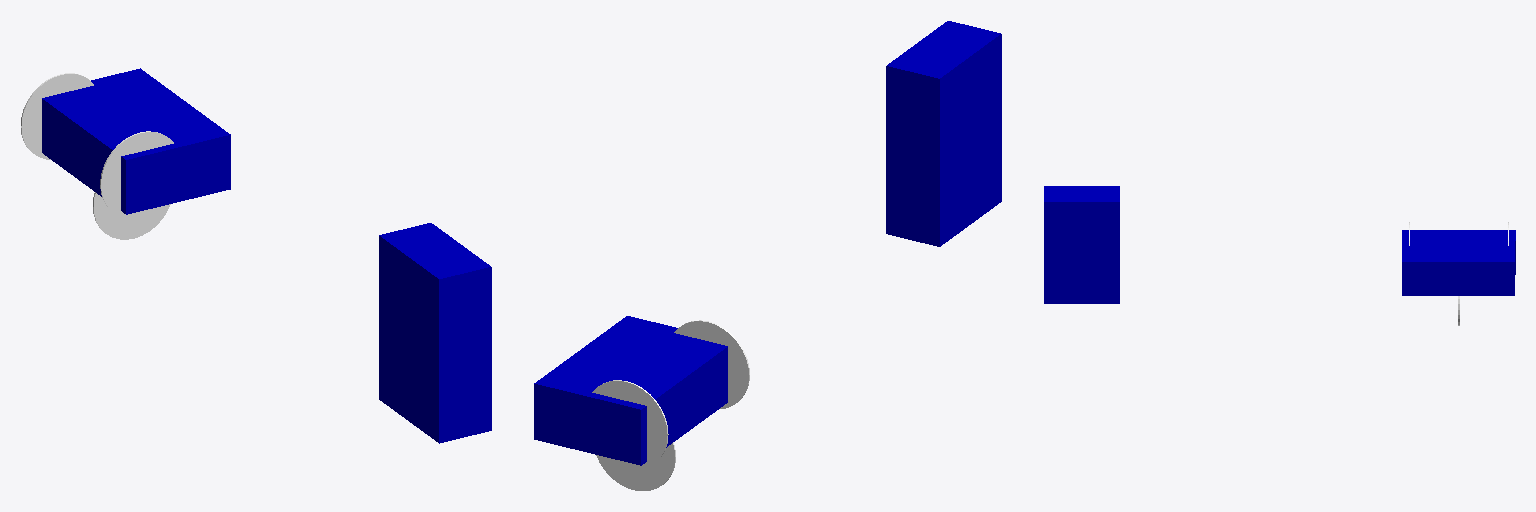
URDF robot description (glide):
<?xml version="1.0" ?>
<!-- =================================================================================== -->
<!-- |    This document was autogenerated by xacro from glide_description.urdf.xacro   | -->
<!-- |    EDITING THIS FILE BY HAND IS NOT RECOMMENDED                                 | -->
<!-- =================================================================================== -->
<robot name="glide">
  <material name="blue">
    <color rgba="0 0 0.8 1"/>
  </material>
  <material name="white">
    <color rgba="1 1 1 1"/>
  </material>
  <!-- 4" ~= 0.1 m -->
  <!-- 1 5" ~= 0.0381 m -->
  <!-- 1 1/4" ~= 0.03175 m -->
  <!-- <link name="steer_bar_link">
      <visual>
        <geometry>
          <cylinder length="0.4" radius="${bar_radius}"/>
        </geometry>
        <origin rpy="${degrees_45} -${degrees_45} -${degrees_55}" xyz="0 0 0"/>
        <material name="white"/>
      </visual>
      <collision> 
        <origin rpy="${degrees_45} 0 0" xyz="0 0 0"/>
        <geometry> 
          <cylinder length="0.4" radius="${bar_radius}"/>
        </geometry> 
      </collision>
  </link>
  <joint name="steer_bar_joint" type="revolute">
    <limit lower="-0.2" upper="0.2" effort="100" velocity="0.1"/>
      <origin rpy="0 0 0" xyz="-${1.8*body_width} 0 ${body_length/1.1}"/>
      <parent link="base_link"/>
      <child link="steer_bar_link"/>
      <axis xyz="0 1 0"/>
    </joint> -->
  <link name="base_footprint"/>
  <link name="base_link">
    <visual>
      <geometry>
        <box size="0.3 0.2 0.1"/>
      </geometry>
      <origin rpy="0 0 1.57" xyz="0 0 0.1"/>
      <material name="blue"/>
    </visual>
  </link>
  <gazebo reference="base_link">
    <material>Gazebo/Blue</material>
  </gazebo>
  <joint name="base_joint" type="fixed">
    <origin rpy="0 0 0" xyz="0 0 0"/>
    <!-- 0 3.14 1.57-->
    <child link="base_link"/>
    <parent link="base_footprint"/>
  </joint>
  <link name="front_right_wheel">
    <visual>
      <geometry>
        <cylinder length="0.003" radius="0.077"/>
      </geometry>
      <origin rpy="0 0 0" xyz="0 0 0"/>
      <material name="white"/>
    </visual>
    <collision>
      <origin rpy="0 0 0" xyz="0 0 0"/>
      <geometry>
        <cylinder length="0.003" radius="0.077"/>
      </geometry>
    </collision>
    <inertial>
      <origin rpy="0 0 0" xyz="0 0 0"/>
      <mass value="5.0"/>
      <!--<cylinder_inertia m="0.2" r="0.3" h="0.1"/> -->
      <!-- <cylinder_inirtia m="${mass}" r="${radius}" h="${width}" /> -->
      <inertia ixx="7.90866056" ixy="0.00000006" ixz="0" iyy="7.90866056" iyz="0" izz="2.48398783"/>
    </inertial>
  </link>
  <gazebo reference="$front_{name}_wheel">
    <material>Gazebo/White</material>
  </gazebo>
  <joint name="front_right_wheel_joint" type="revolute">
    <limit effort="100" lower="-0.6" upper="0.6" velocity="1"/>
    <origin rpy="1.5707963267948966 0 3.141592653589793" xyz="-0.061900000000000004 -0.13175 0.107"/>
    <parent link="base_link"/>
    <child link="front_right_wheel"/>
    <axis xyz="0 1 0"/>
    <axis2 xyz="0 0 1"/>
  </joint>
  <link name="front_left_wheel">
    <visual>
      <geometry>
        <cylinder length="0.003" radius="0.077"/>
      </geometry>
      <origin rpy="0 0 0" xyz="0 0 0"/>
      <material name="white"/>
    </visual>
    <collision>
      <origin rpy="0 0 0" xyz="0 0 0"/>
      <geometry>
        <cylinder length="0.003" radius="0.077"/>
      </geometry>
    </collision>
    <inertial>
      <origin rpy="0 0 0" xyz="0 0 0"/>
      <mass value="5.0"/>
      <!--<cylinder_inertia m="0.2" r="0.3" h="0.1"/> -->
      <!-- <cylinder_inirtia m="${mass}" r="${radius}" h="${width}" /> -->
      <inertia ixx="7.90866056" ixy="0.00000006" ixz="0" iyy="7.90866056" iyz="0" izz="2.48398783"/>
    </inertial>
  </link>
  <gazebo reference="$front_{name}_wheel">
    <material>Gazebo/White</material>
  </gazebo>
  <joint name="front_left_wheel_joint" type="revolute">
    <limit effort="100" lower="-0.6" upper="0.6" velocity="1"/>
    <origin rpy="1.5707963267948966 0 3.141592653589793" xyz="-0.061900000000000004 0.13175 0.107"/>
    <parent link="base_link"/>
    <child link="front_left_wheel"/>
    <axis xyz="0 1 0"/>
    <axis2 xyz="0 0 1"/>
  </joint>
  <link name="rear_right_wheel">
    <visual>
      <geometry>
        <cylinder length="0.003" radius="0.077"/>
      </geometry>
      <origin rpy="0 0 0" xyz="0 0 0"/>
      <material name="white"/>
    </visual>
    <collision>
      <origin rpy="0 0 0" xyz="0 0 0"/>
      <geometry>
        <cylinder length="0.003" radius="0.077"/>
      </geometry>
    </collision>
    <inertial>
      <origin rpy="0 0 0" xyz="0 0 0"/>
      <mass value="5.0"/>
      <!--<cylinder_inertia m="0.2" r="0.3" h="0.1"/> -->
      <!-- <cylinder_inirtia m="${mass}" r="${radius}" h="${width}" /> -->
      <inertia ixx="7.90866056" ixy="0.00000006" ixz="0" iyy="7.90866056" iyz="0" izz="2.48398783"/>
    </inertial>
  </link>
  <joint name="rear_right_wheel_joint" type="continuous">
    <origin rpy="1.5707963267948966 0 3.141592653589793" xyz="0 0 0"/>
    <parent link="base_link"/>
    <child link="rear_right_wheel"/>
    <axis xyz="0 0 1"/>
  </joint>
  <link name="rear_left_wheel">
    <visual>
      <geometry>
        <cylinder length="0.003" radius="0.077"/>
      </geometry>
      <origin rpy="0 0 0" xyz="0 0 0"/>
      <material name="white"/>
    </visual>
    <collision>
      <origin rpy="0 0 0" xyz="0 0 0"/>
      <geometry>
        <cylinder length="0.003" radius="0.077"/>
      </geometry>
    </collision>
    <inertial>
      <origin rpy="0 0 0" xyz="0 0 0"/>
      <mass value="5.0"/>
      <!--<cylinder_inertia m="0.2" r="0.3" h="0.1"/> -->
      <!-- <cylinder_inirtia m="${mass}" r="${radius}" h="${width}" /> -->
      <inertia ixx="7.90866056" ixy="0.00000006" ixz="0" iyy="7.90866056" iyz="0" izz="2.48398783"/>
    </inertial>
  </link>
  <joint name="rear_left_wheel_joint" type="continuous">
    <origin rpy="1.5707963267948966 0 3.141592653589793" xyz="0 0 0"/>
    <parent link="base_link"/>
    <child link="rear_left_wheel"/>
    <axis xyz="0 0 1"/>
  </joint>
  <!-- <link name="camera_bottom_screw_frame">
    <visual>
      <geometry>
          <box size="0.02505 0.090 0.025"/>
      </geometry>
    </visual>
    <collision>
      <geometry>
          <box size="0.02505 0.090 0.025"/>
      </geometry>
    </collision>
  </link> -->
  <!-- <link name="camera_link"></link>

  <link name="camera_depth_frame"></link>

  <link name="camera_depth_optical_frame"></link>

  <link name="camera_color_frame"></link>

  <link name="camera_color_optical_frame"></link>

  <link name="camera_left_ir_frame"></link>

  <link name="camera_left_ir_optical_frame"></link>

  <link name="camera_right_ir_frame"></link>

  <link name="camera_right_ir_optical_frame"></link> -->
  <!-- <joint name="camera_joint" type="fixed">
    <parent link="base_link" />
    <child link="camera_bottom_screw_frame" />
    <pose xyz="0.4 0 0.25" rpy="0 0 0" />
  </joint> -->
  <!-- <joint name="camera_link_joint" type="fixed">
    <parent link="base_link" />
    <child link="camera_link" />
    <pose xyz="0 0.0175 0.0125 " rpy="0 0 0" />
  </joint>

  <joint name="camera_depth_joint" type="fixed">
    <parent link="camera_link" />
    <child link="camera_depth_frame" />
    <pose xyz="0 0 0" rpy="0 0 0" />
  </joint>

  <joint name="camera_depth_optical_joint" type="fixed">
    <parent link="camera_depth_frame" />
    <child link="camera_depth_optical_frame" />
    <pose xyz="0 0 0 " rpy="-1.57 0 -1.57" />
  </joint>

  <joint name="camera_color_joint" type="fixed">
    <parent link="camera_depth_frame" />
    <child link="camera_color_frame" />
    <pose xyz="0 0 0" rpy="0 0 0" />
  </joint>

  <joint name="camera_color_optical_joint" type="fixed">
    <parent link="camera_color_frame" />
    <child link="camera_color_optical_frame" />
    <pose xyz="0 0 0 " rpy="-1.57 0 -1.57" />
  </joint>

  <joint name="camera_left_ir_joint" type="fixed">
    <parent link="camera_depth_frame" />
    <child link="camera_left_ir_frame" />
    <pose xyz="0 0 0 " rpy="0 0 0 " />
  </joint>

  <joint name="camera_left_ir_optical_joint" type="fixed">
    <parent link="camera_left_ir_frame" />
    <child link="camera_left_ir_optical_frame" />
    <pose xyz="0 0 0 " rpy="-1.57 0 -1.57" />
  </joint>

  <joint name="camera_right_ir_joint" type="fixed">
    <parent link="camera_depth_frame" />
    <child link="camera_right_ir_frame" />
    <pose xyz="0 -0.050 0 " rpy="0 0 0" />
  </joint>

  <joint name="camera_right_ir_optical_joint" type="fixed">
    <parent link="camera_right_ir_frame" />
    <child link="camera_right_ir_optical_frame" />
    <pose xyz="0 0 0 " rpy="-1.57 0 -1.57" />
  </joint> -->
  <link name="human_link">
    <visual>
      <geometry>
        <box size="0.3 0.2 0.1"/>
      </geometry>
      <material name="blue"/>
    </visual>
  </link>
  <joint name="base_to_human" type="fixed">
    <origin rpy="0 1.5707963267948966 0" xyz="0.0 -1.0 0.154"/>
    <parent link="base_link"/>
    <child link="human_link"/>
  </joint>
</robot>

--- Render facts (derived) ---
The picture shows the robot from 3 angles, left to right: view 1: azimuth 30°, elevation 25°; view 2: azimuth 150°, elevation 25°; view 3: azimuth 270°, elevation 25°; orthographic projection.
Robot: glide — 7 links, 6 joints (2 revolute, 2 continuous, 2 fixed); root link base_footprint; default pose: all joints at 0.
Links seen in each view (by area): view 1: human_link, base_link, front_right_wheel, front_left_wheel, rear_right_wheel; view 2: human_link, base_link, front_left_wheel, front_right_wheel, rear_right_wheel; view 3: human_link, base_link.
Link boxes in pixels (box(x1,y1,x2,y2)): human_link: box(379, 223, 491, 443); base_link: box(42, 68, 230, 214); front_right_wheel: box(100, 131, 173, 217); front_left_wheel: box(21, 73, 93, 159); rear_right_wheel: box(93, 192, 170, 239); human_link: box(886, 21, 1001, 246); base_link: box(534, 316, 727, 465); front_left_wheel: box(592, 380, 668, 468); front_right_wheel: box(674, 320, 749, 408); rear_right_wheel: box(596, 442, 675, 490); human_link: box(1044, 186, 1119, 303); base_link: box(1402, 230, 1515, 295).
Size in the robot's own frame: 0.239 by 1.25 by 0.381 metres.
Geometry: primitives only (box / cylinder / sphere), no mesh files.
